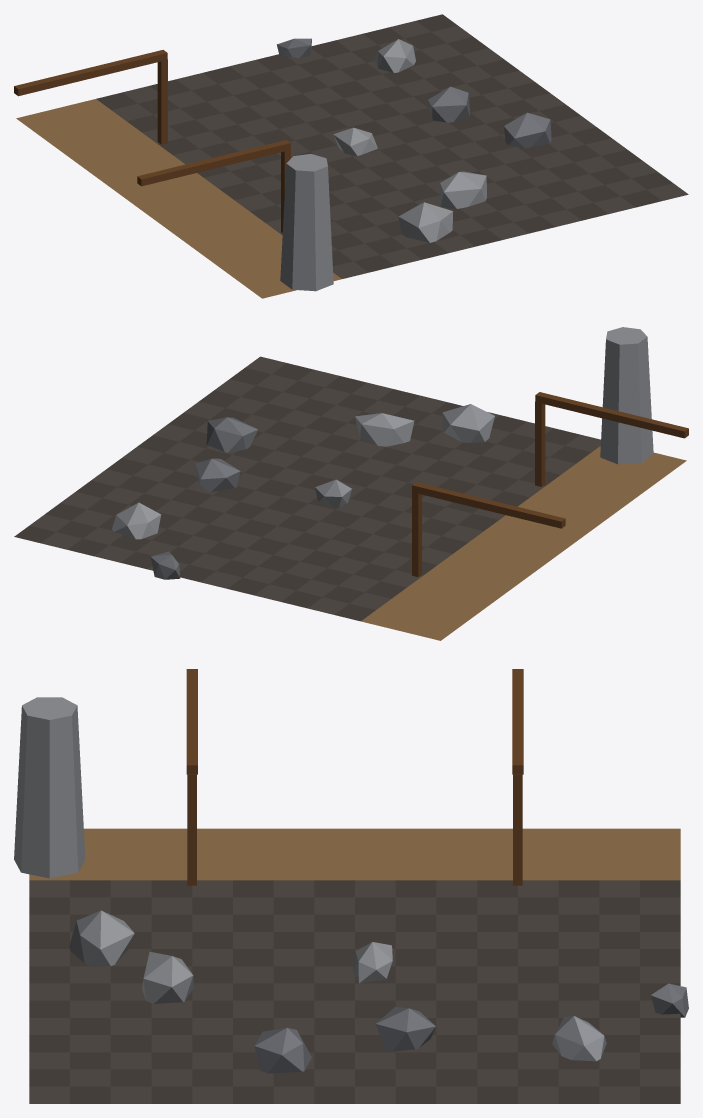
The model's file is chunk_6_19.glb.
The picture shows the model from 3 angles, top to bottom: view 1: azimuth 30°, elevation 25°; view 2: azimuth 150°, elevation 25°; view 3: azimuth 270°, elevation 25°; orthographic projection. The views are drawn at different scales.
Parts seen in each view (by area): view 1: chunk_6_19; view 2: chunk_6_19; view 3: chunk_6_19.
Part boxes in pixels (box(x1,y1,x2,y2)): chunk_6_19: box(14, 14, 688, 298); chunk_6_19: box(14, 327, 688, 640); chunk_6_19: box(14, 669, 688, 1103).
Bounding box in the file's own units: 18.3 × 4.9 × 16.58.
